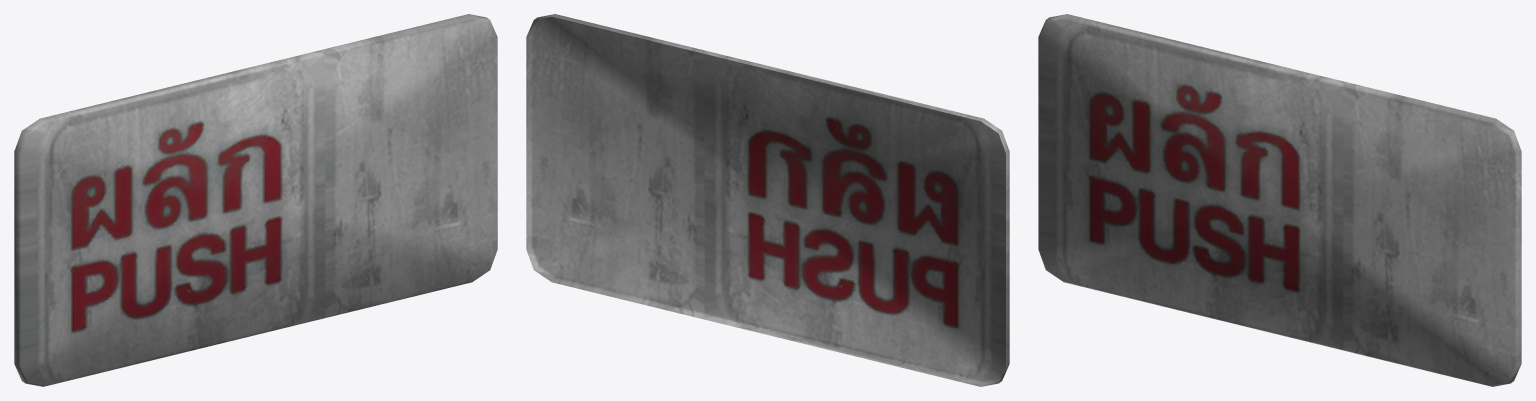
Rendered from sign03.FBX.
The picture shows the model from 3 angles, left to right: view 1: azimuth 30°, elevation 25°; view 2: azimuth 150°, elevation 25°; view 3: azimuth 330°, elevation 25°; orthographic projection.
Parts seen in each view (by area): view 1: SM_Sign03; view 2: SM_Sign03; view 3: SM_Sign03.
Boxes of the visible parts, x1,y1,x2,y2 form: SM_Sign03: [14, 14, 497, 386]; SM_Sign03: [526, 14, 1009, 386]; SM_Sign03: [1038, 14, 1521, 386].
Bounding box in the file's own units: 29.13 × 15.42 × 0.5.
1 material, 1 textured.
